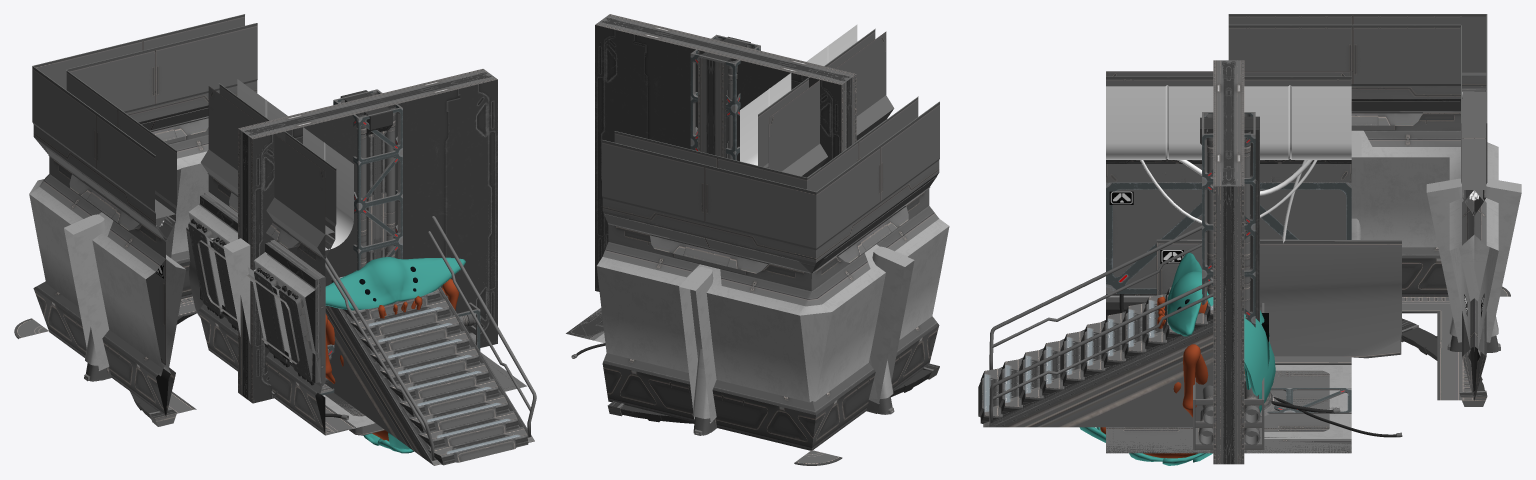
The model's file is deadair_kit.glb.
The picture shows the model from 3 angles, left to right: view 1: azimuth 30°, elevation 25°; view 2: azimuth 150°, elevation 25°; view 3: azimuth 270°, elevation 25°; orthographic projection. The views are drawn at different scales.
Parts seen in each view (by area): view 1: Door_Frame_Square, Platform_Stairs_4, TopCables_Corner_Square_Inner, WallAstra_Corner_Square_Inner, TopCables_Corner_Square_Outer, Door_Frame_Square_Blocked, Body, WallAstra_Straight_Broken, TopSimple_Straight, TopCables_Straight, WallAstra_Corner_Square_Outer, Column_Pipes (+15 smaller); view 2: WallAstra_Corner_Square_Inner, TopCables_Corner_Square_Outer, Door_Frame_Square, WallBand_Corner_Square_Inner, TopCables_Corner_Square_Inner, Door_Frame_Square_Blocked, TopSimple_Straight, TopCables_Straight, Column_Simple, TopPlastic_Straight, Column_Pipes, WallAstra_Corner_Square_Outer (+3 smaller); view 3: Platform_Stairs_4, WallBand_Straight_Broken, TopCables_Corner_Square_Inner, TopPlastic_Straight, WallAstra_Corner_Square_Outer, Door_Frame_Square, WallBand_Straight, TopCables_Corner_Square_Outer, Body, Platform_Metal, WallAstra_Corner_Square_Inner, Column_Pipes (+18 smaller).
Part boxes in pixels (x1,y1,x2,y2): Door_Frame_Square: (238, 69, 497, 403); Platform_Stairs_4: (325, 276, 534, 465); TopCables_Corner_Square_Inner: (46, 23, 257, 258); WallAstra_Corner_Square_Inner: (29, 174, 165, 380); TopCables_Corner_Square_Outer: (32, 14, 244, 258); Door_Frame_Square_Blocked: (238, 100, 497, 402); Body: (325, 257, 465, 453); WallAstra_Straight_Broken: (188, 218, 348, 420); TopSimple_Straight: (208, 86, 325, 275); TopCables_Straight: (200, 83, 336, 276); WallAstra_Corner_Square_Outer: (84, 135, 208, 415); Column_Pipes: (333, 89, 402, 270); WallAstra_Corner_Square_Inner: (596, 206, 949, 432); TopCables_Corner_Square_Outer: (602, 101, 939, 290); Door_Frame_Square: (595, 14, 856, 291); WallBand_Corner_Square_Inner: (602, 316, 939, 450); TopCables_Corner_Square_Inner: (604, 96, 936, 291); Door_Frame_Square_Blocked: (595, 25, 856, 291); TopSimple_Straight: (768, 31, 886, 171); TopCables_Straight: (758, 28, 894, 177); Column_Simple: (698, 36, 750, 158); TopPlastic_Straight: (740, 24, 857, 165); Column_Pipes: (690, 34, 760, 160); WallAstra_Corner_Square_Outer: (692, 349, 894, 435); Platform_Stairs_4: (978, 287, 1213, 427); WallBand_Straight_Broken: (1156, 239, 1401, 358); TopCables_Corner_Square_Inner: (1228, 24, 1483, 215); TopPlastic_Straight: (1106, 85, 1351, 182); WallAstra_Corner_Square_Outer: (1351, 130, 1500, 399); Door_Frame_Square: (1213, 60, 1244, 464); WallBand_Straight: (1106, 189, 1346, 294); TopCables_Corner_Square_Outer: (1228, 14, 1487, 215); Body: (1079, 252, 1275, 465); Platform_Metal: (1106, 370, 1351, 453); WallAstra_Corner_Square_Inner: (1351, 142, 1521, 398); Column_Pipes: (1202, 112, 1255, 327).
Bounding box in the file's own units: 7.2 × 6.11 × 8.86.
23 materials, 12 textured.
